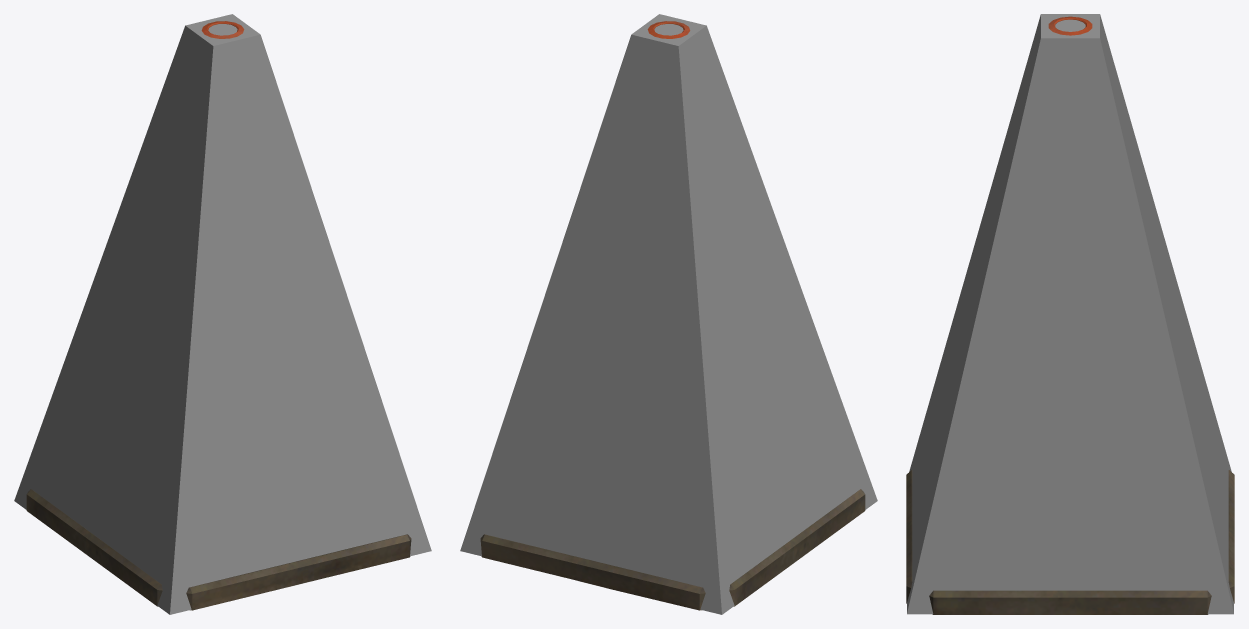
Rendered from gr_cono.FBX.
The picture shows the model from 3 angles, left to right: view 1: azimuth 30°, elevation 25°; view 2: azimuth 150°, elevation 25°; view 3: azimuth 270°, elevation 25°; orthographic projection. The views are drawn at different scales.
Parts seen in each view (by area): view 1: gr_cono_coll, gr_cono; view 2: gr_cono_coll, gr_cono; view 3: gr_cono_coll, gr_cono.
Boxes of the visible parts, <box> form: gr_cono_coll: <box>14,14,431,614</box>; gr_cono: <box>26,21,411,610</box>; gr_cono_coll: <box>460,14,877,614</box>; gr_cono: <box>480,21,865,610</box>; gr_cono_coll: <box>907,14,1233,614</box>; gr_cono: <box>906,16,1234,614</box>.
Size of the model in its own units: 0.2874 by 0.5225 by 0.297.
